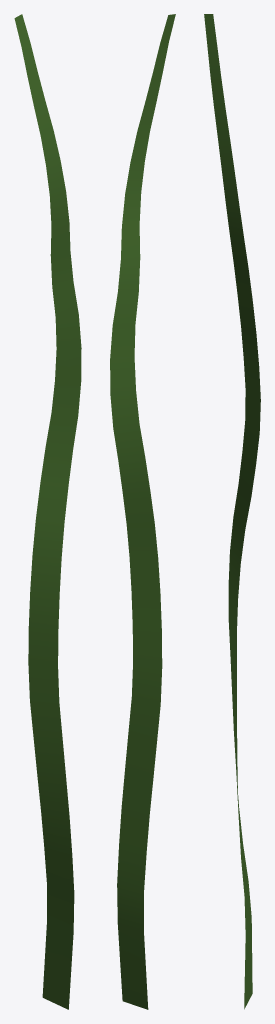
File: plant_swamp_kelp_giant_B_solo_C.fbx
The picture shows the model from 3 angles, left to right: view 1: azimuth 30°, elevation 25°; view 2: azimuth 210°, elevation 25°; view 3: azimuth 330°, elevation 25°; orthographic projection.
Parts seen in each view (by area): view 1: plant_swamp_kelp_giant_B_solo_C; view 2: plant_swamp_kelp_giant_B_solo_C; view 3: plant_swamp_kelp_giant_B_solo_C.
Part boxes in pixels (x1,y1,x2,y2): plant_swamp_kelp_giant_B_solo_C: [14, 14, 81, 1009]; plant_swamp_kelp_giant_B_solo_C: [110, 14, 175, 1009]; plant_swamp_kelp_giant_B_solo_C: [204, 14, 260, 1009].
Bounding box in the file's own units: 32.43 × 497 × 18.72.
